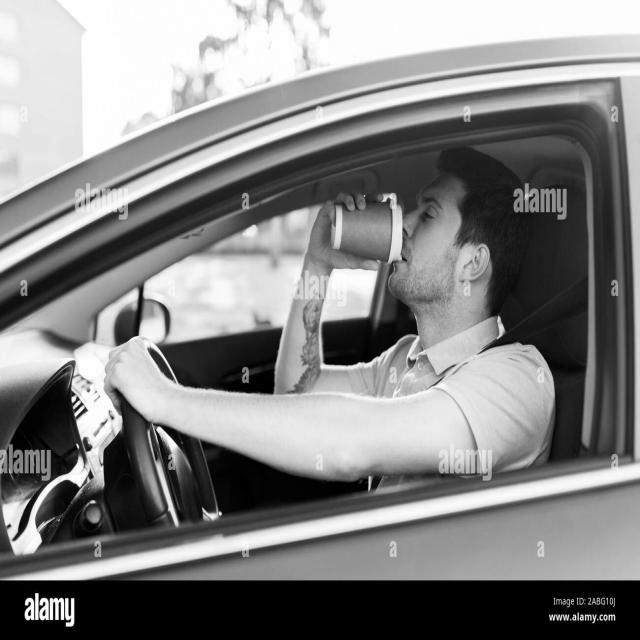Drinking: (327, 193, 408, 272)
